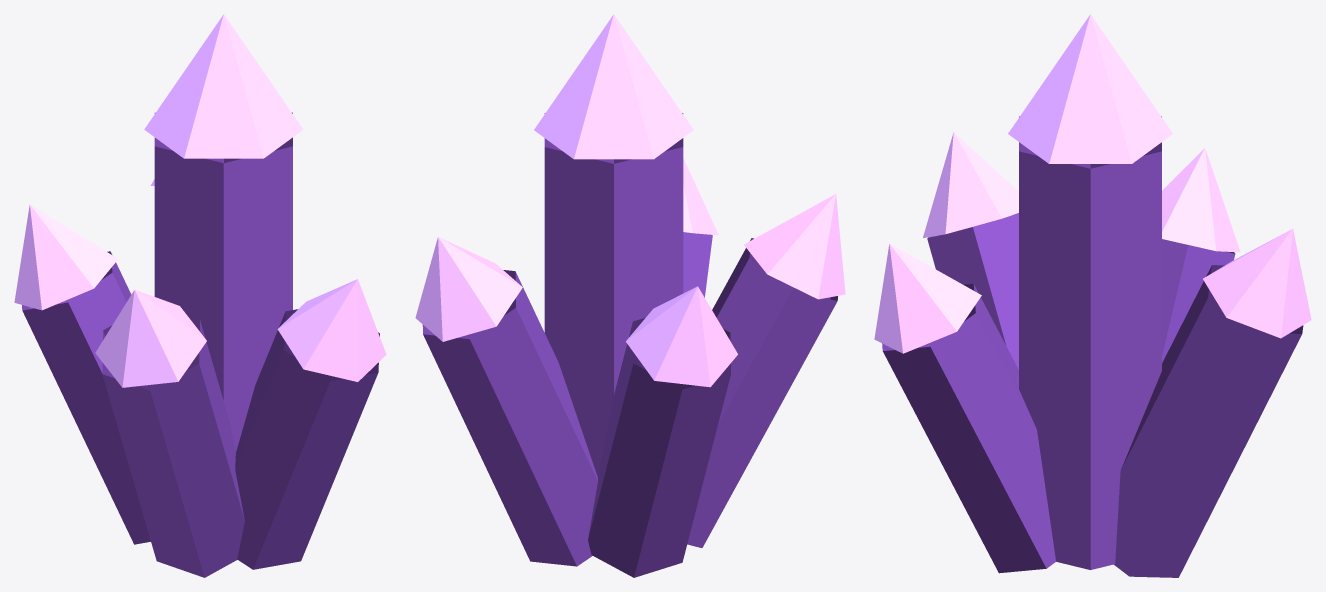
File: crystals.glb
The picture shows the model from 3 angles, left to right: view 1: azimuth 30°, elevation 25°; view 2: azimuth 150°, elevation 25°; view 3: azimuth 270°, elevation 25°; orthographic projection. The views are drawn at different scales.
Visible parts, largest first — view 1: crystals; view 2: crystals; view 3: crystals.
Boxes of the visible parts, x1,y1,x2,y2 form: crystals: (14,14,386,577); crystals: (415,14,845,577); crystals: (874,14,1311,577).
Size of the model in its own units: 0.5767 by 1.02 by 0.7405.
